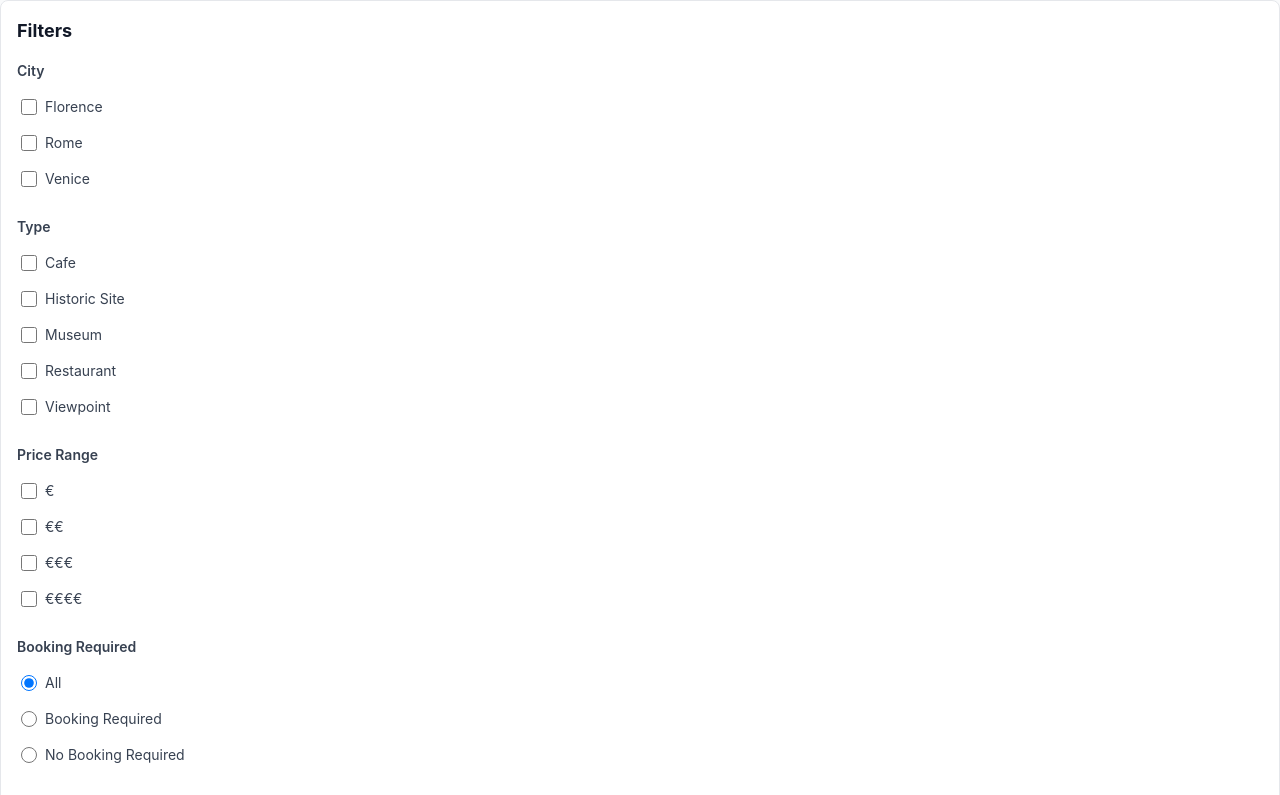
Test: FilterPanel Component › Clear All Functionality › should hide Active Filters section after clearing all
Click the checkbox named "Filter by Rome" at (29, 143), box [21,135,37,151]
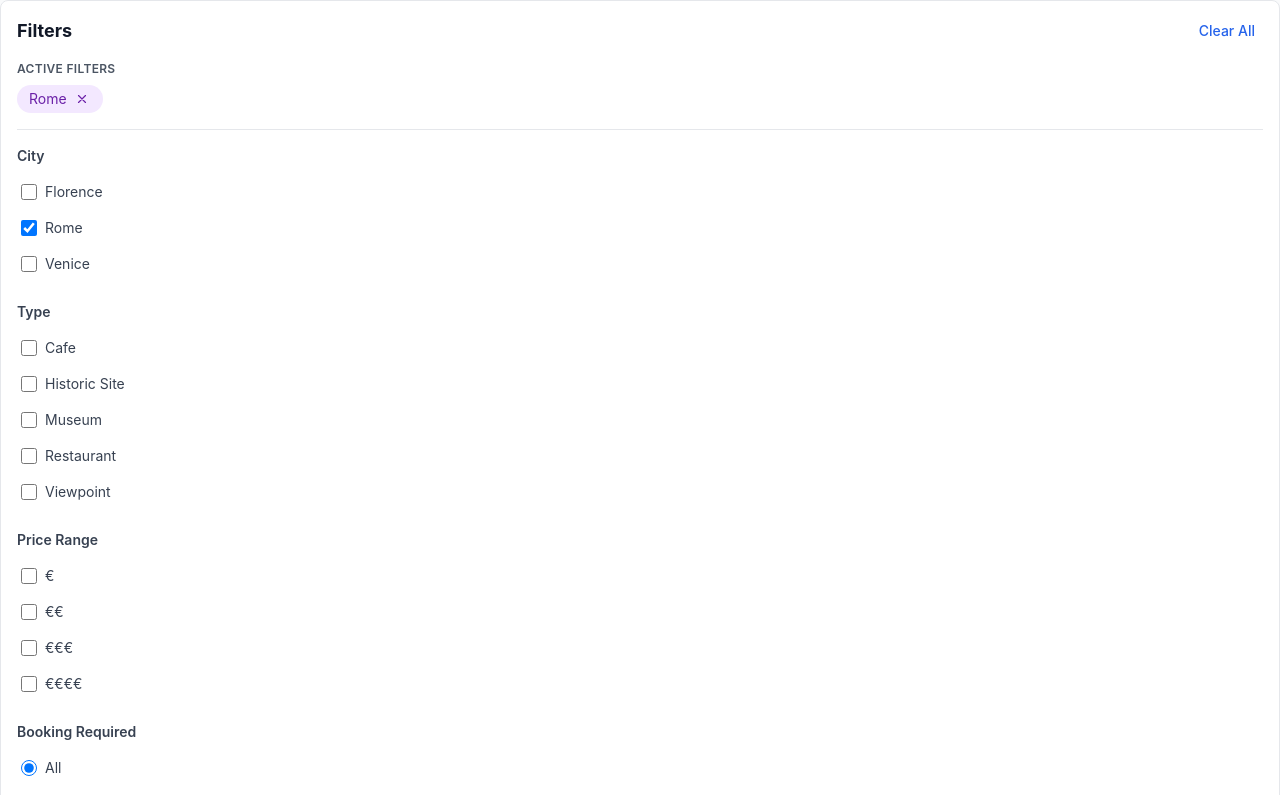
Check: the heading "Active Filters" is shown, box [17,61,115,76]
Click the button "Clear All" at (1227, 31), box [1191,17,1263,45]
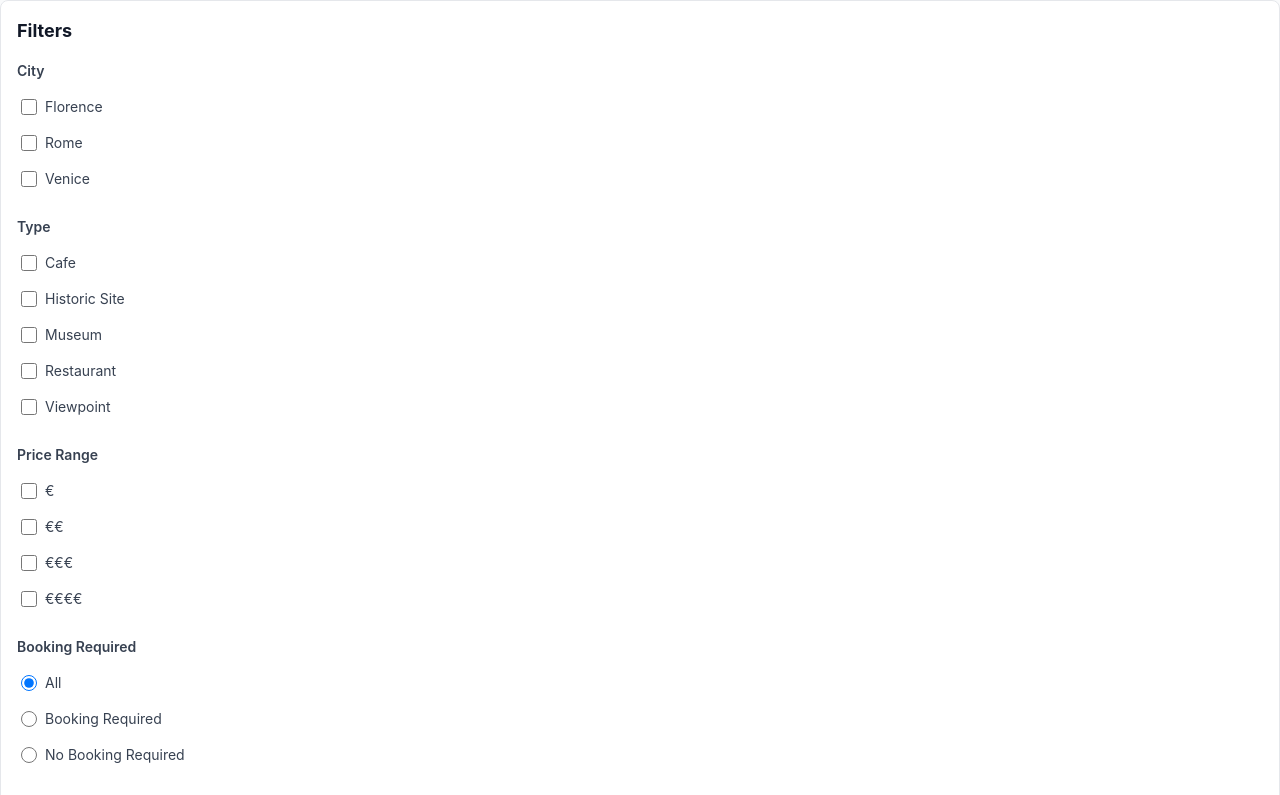
Check: the heading "Active Filters" is gone
